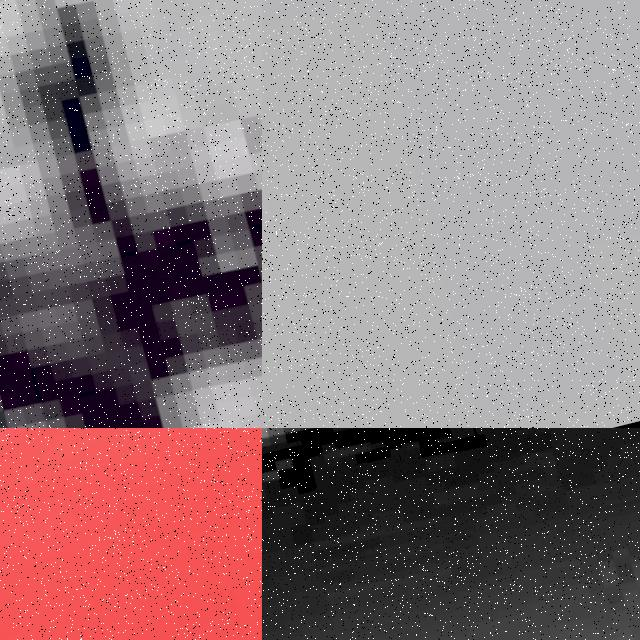0: (0, 0, 262, 428)
drone: (262, 428, 640, 640), (0, 428, 262, 640)
